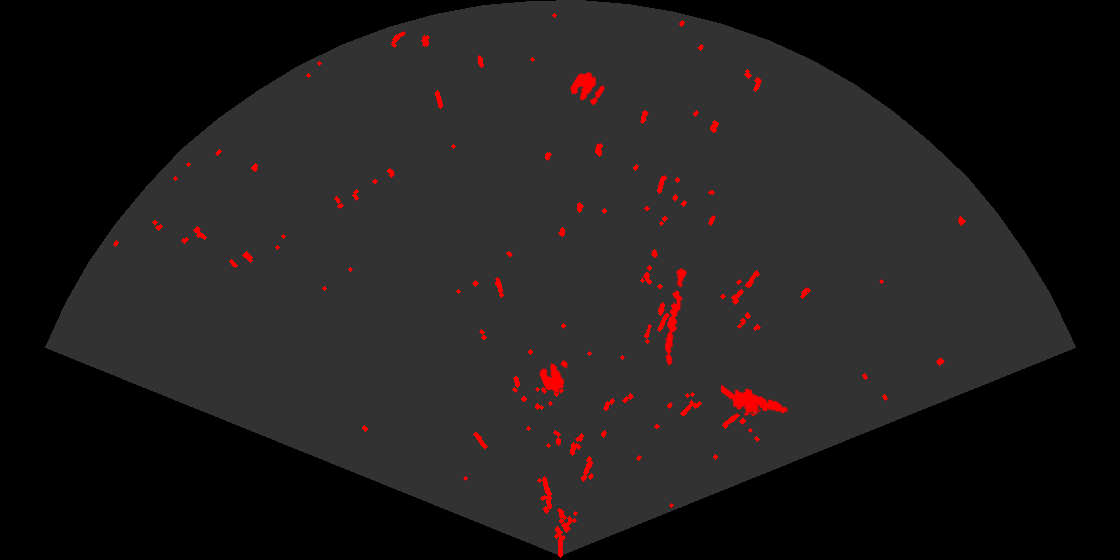ball: (569, 71, 606, 107), (538, 358, 570, 394)
chain: (663, 266, 688, 367)
frogman: (721, 383, 790, 418)
